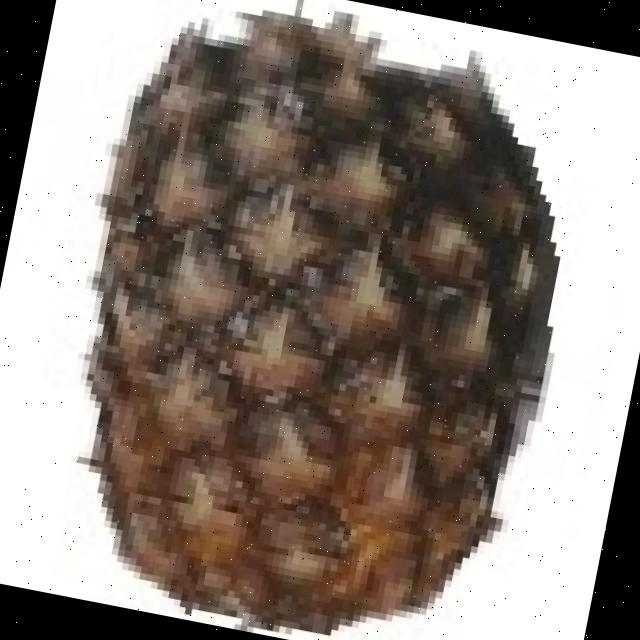pineapple: (79, 22, 541, 639)
